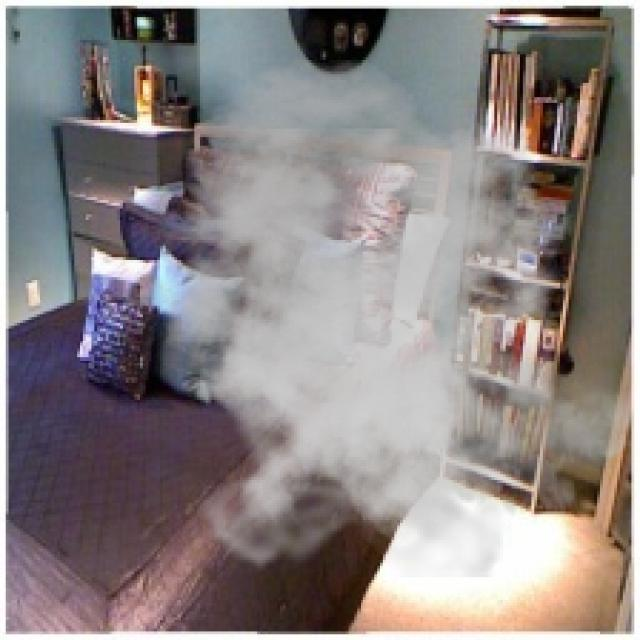smoke: (111, 57, 632, 577)
